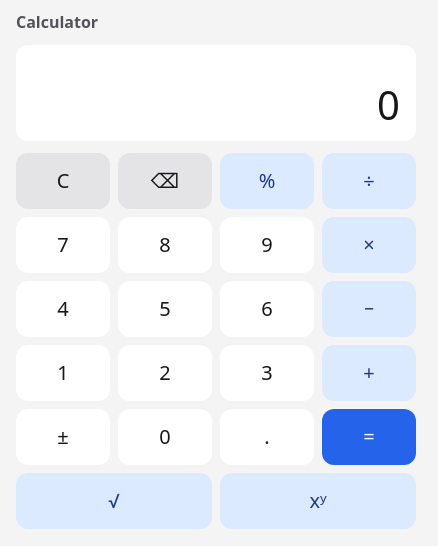
Test: App › shows the pending operation on the secondary line
The width and height of the screenshot is (438, 546).
Click the button "2" at (165, 373), box [118,345,212,401]
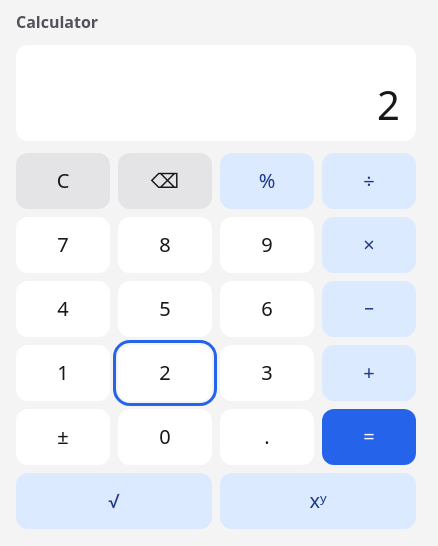
Click the button "0" at (165, 437), box [118,409,212,465]
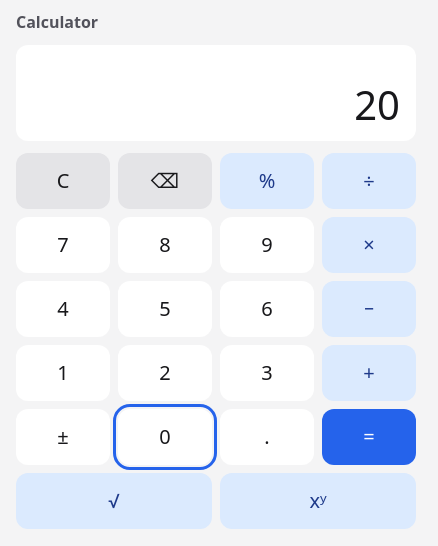
Click the button named "add" at (369, 373), box [322,345,416,401]
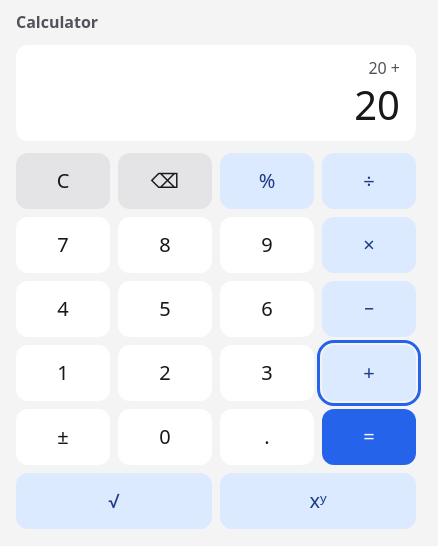
Expected: the text with class "display__main" reads "20", [354,77,400,132]
Expected: the text with class "display__secondary" reads "20 +", [368,57,400,79]
